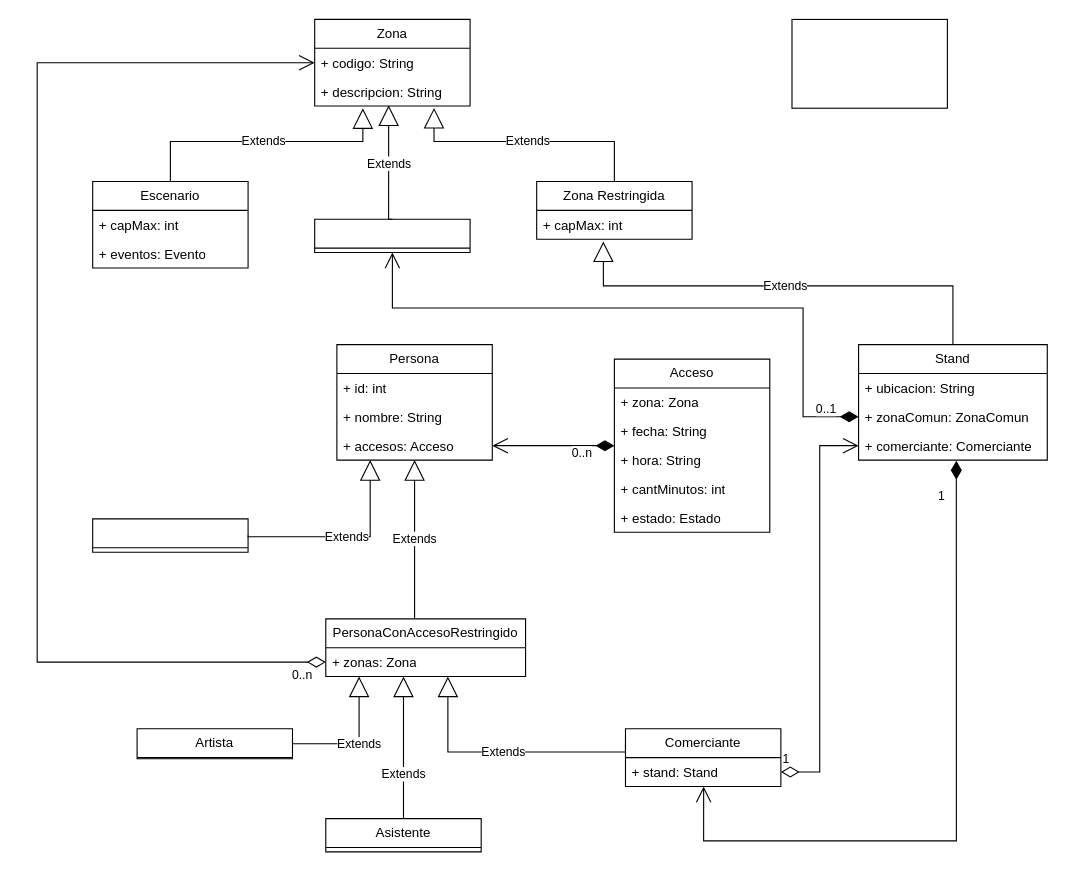
This 1067x879 diagram has some shape labels left out. The shapes that lost their labels are listed below. From the top down, each one's centre as x and y in pixels, then its label:
At pixel 869 63: "<<Enumeration>> Estado + AUTORIZADO + DENEGADO".
At pixel 392 235: "Zona Comun".
At pixel 170 535: "Staff Organizador".
